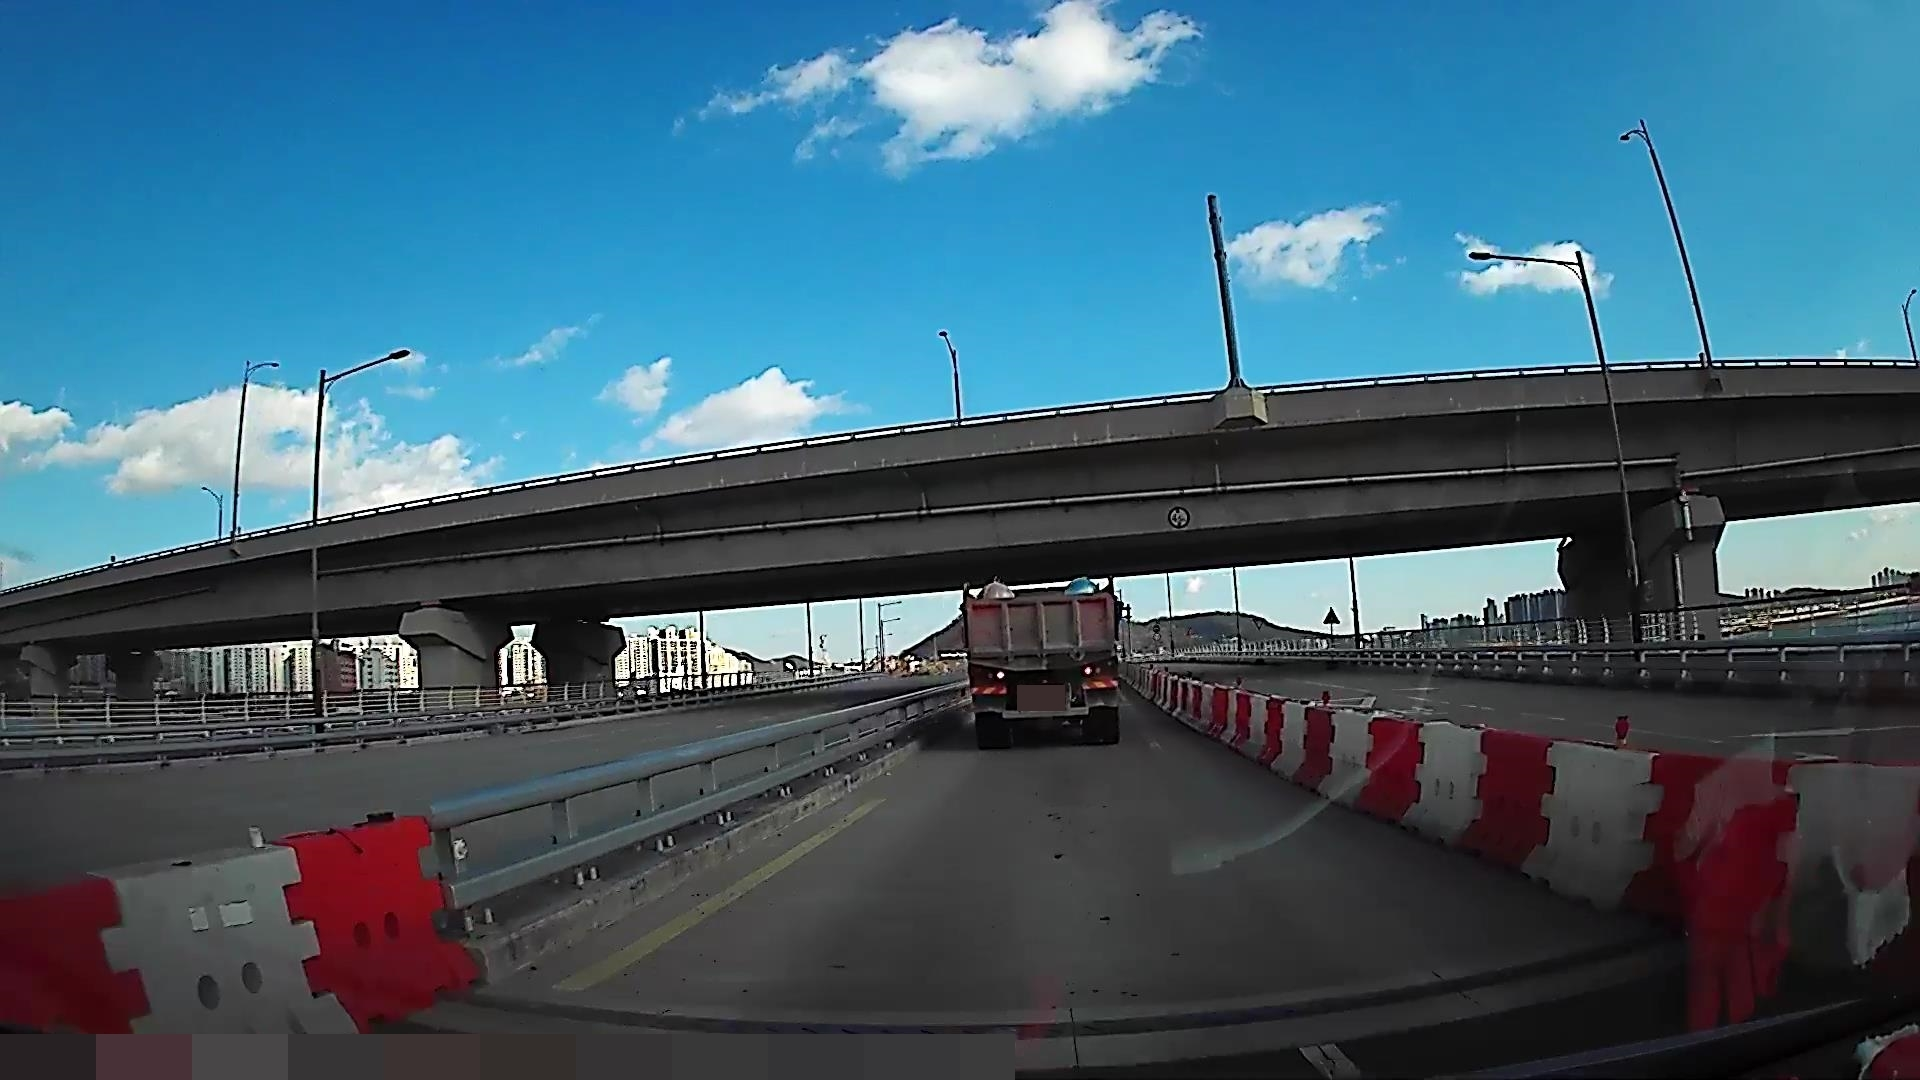불법차량: (957, 574, 1124, 751)
